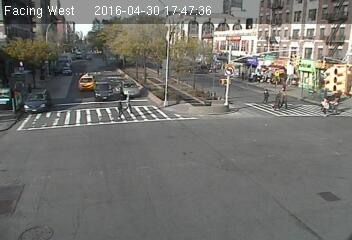neg: (170, 146, 204, 193), (278, 150, 307, 188), (12, 121, 37, 154), (150, 2, 175, 35), (53, 152, 76, 183), (215, 10, 234, 34), (45, 6, 61, 27), (211, 51, 223, 66), (61, 53, 73, 68), (115, 61, 126, 76), (108, 13, 119, 27), (256, 39, 266, 52), (87, 60, 97, 73), (56, 95, 65, 108), (40, 95, 49, 107), (173, 61, 181, 71)
pos: (119, 89, 137, 114), (277, 90, 295, 115), (258, 84, 275, 107), (113, 96, 129, 118), (329, 95, 345, 117), (272, 88, 288, 108), (317, 94, 332, 115)
